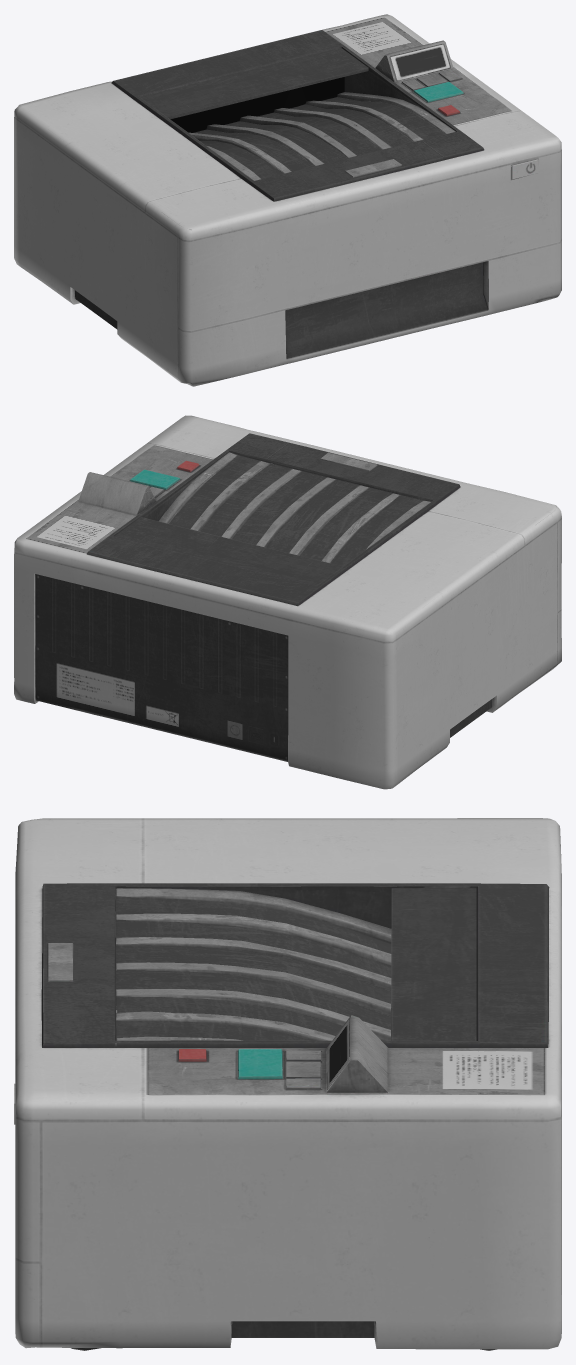
File: impresora67.gltf
The picture shows the model from 3 angles, top to bottom: view 1: azimuth 30°, elevation 25°; view 2: azimuth 150°, elevation 25°; view 3: azimuth 270°, elevation 25°; orthographic projection. The views are drawn at different scales.
Parts seen in each view (by area): view 1: Object_2; view 2: Object_2; view 3: Object_2.
Part boxes in pixels (box(x1,y1,x2,y2)): Object_2: box(14, 14, 561, 386); Object_2: box(14, 415, 561, 789); Object_2: box(14, 818, 561, 1350).
Bounding box in the file's own units: 200 × 95.57 × 160.
1 material, 1 textured.
